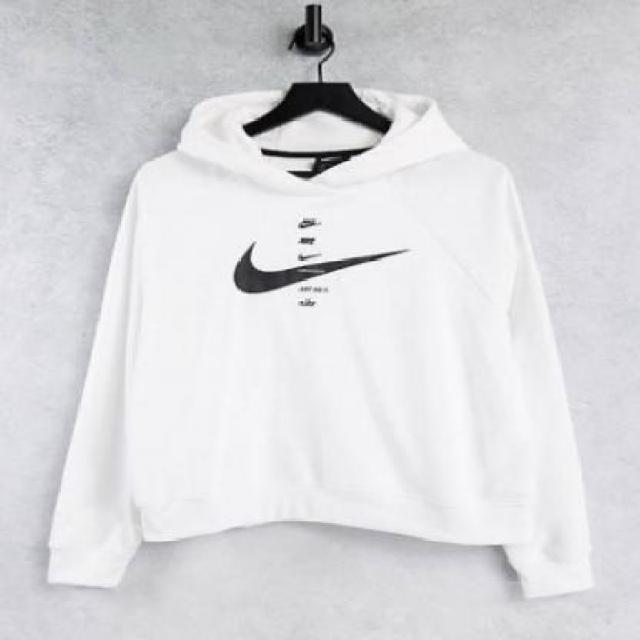Nike: (232, 239, 409, 293), (296, 252, 319, 260), (298, 218, 317, 227)
